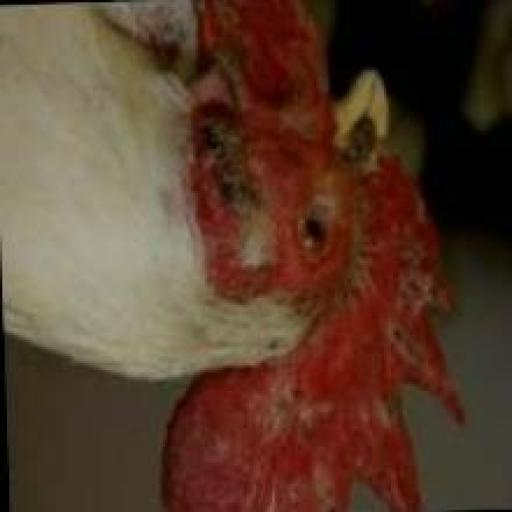disease: (193, 79, 489, 512)
